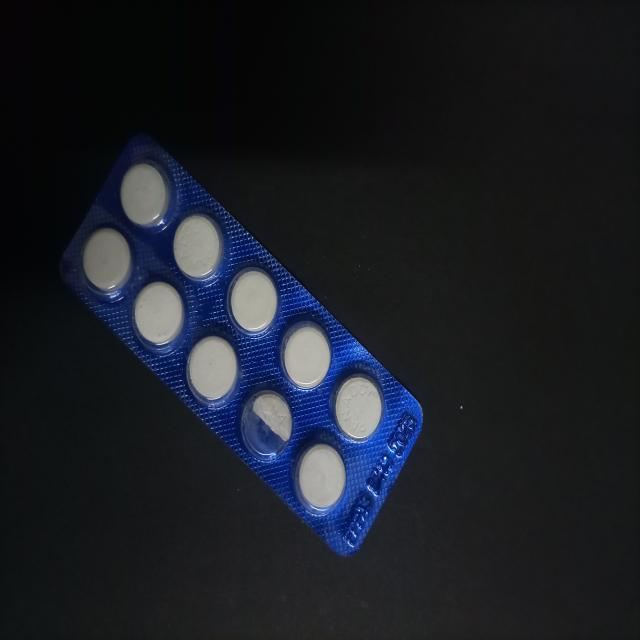defect: (238, 385, 296, 466)
